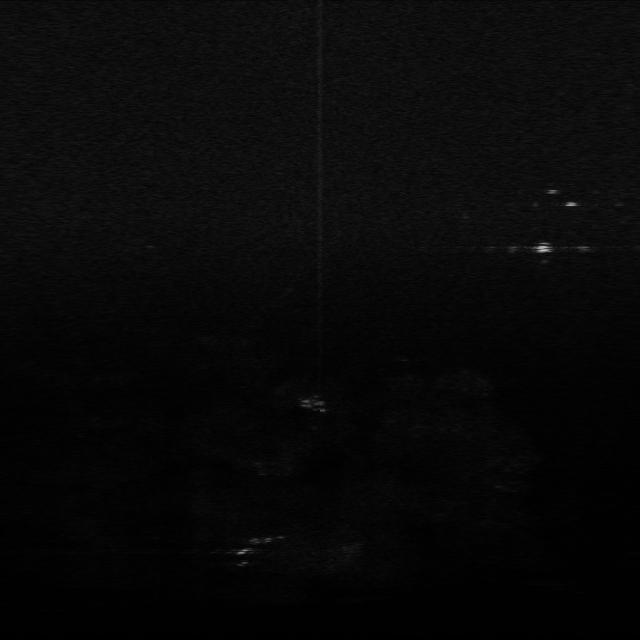rov: (527, 238, 557, 257)
